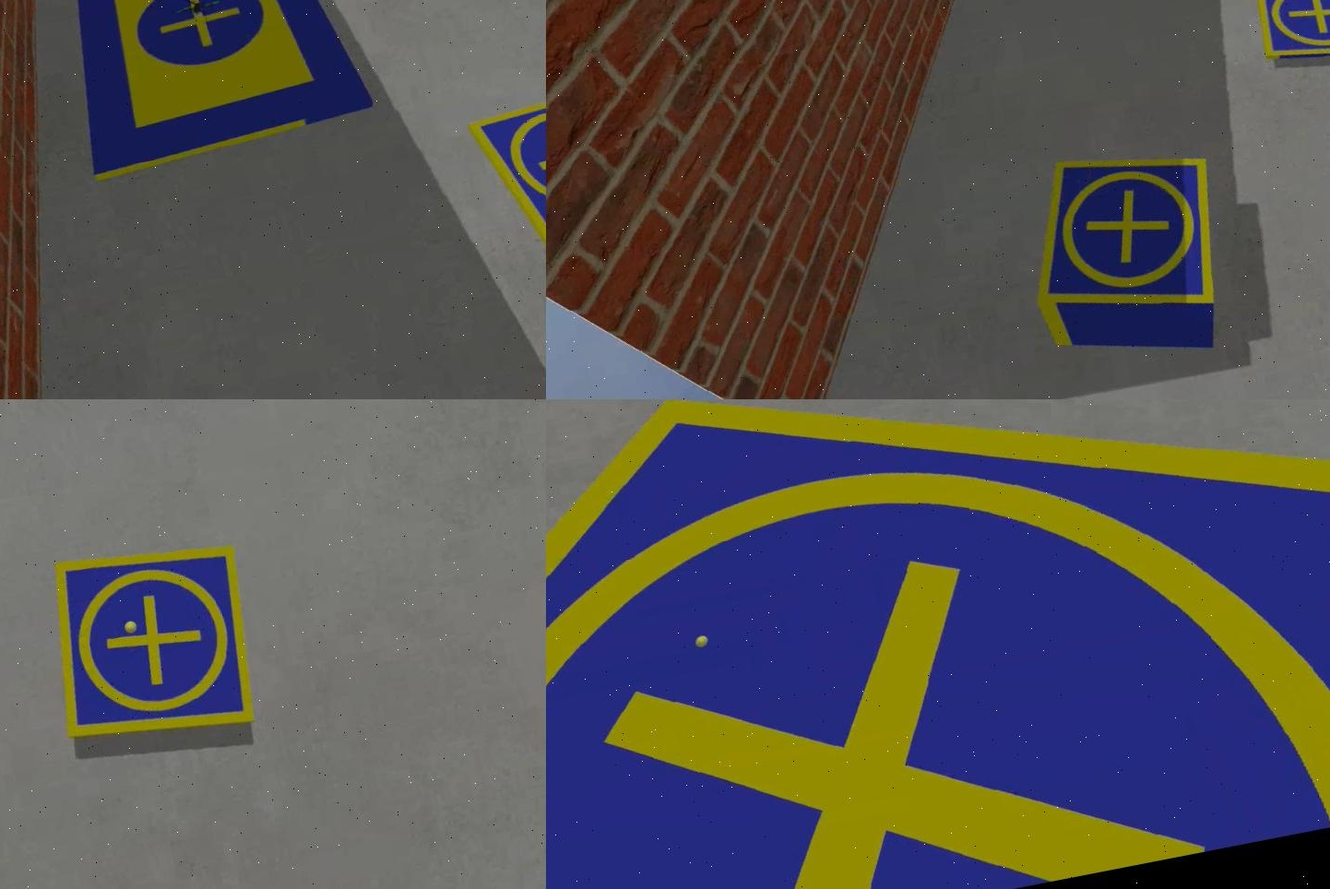large_base: (45, 1, 373, 184)
small_base: (545, 400, 1328, 889), (32, 531, 267, 761), (1008, 135, 1231, 339), (469, 74, 545, 260), (1250, 1, 1328, 77)
